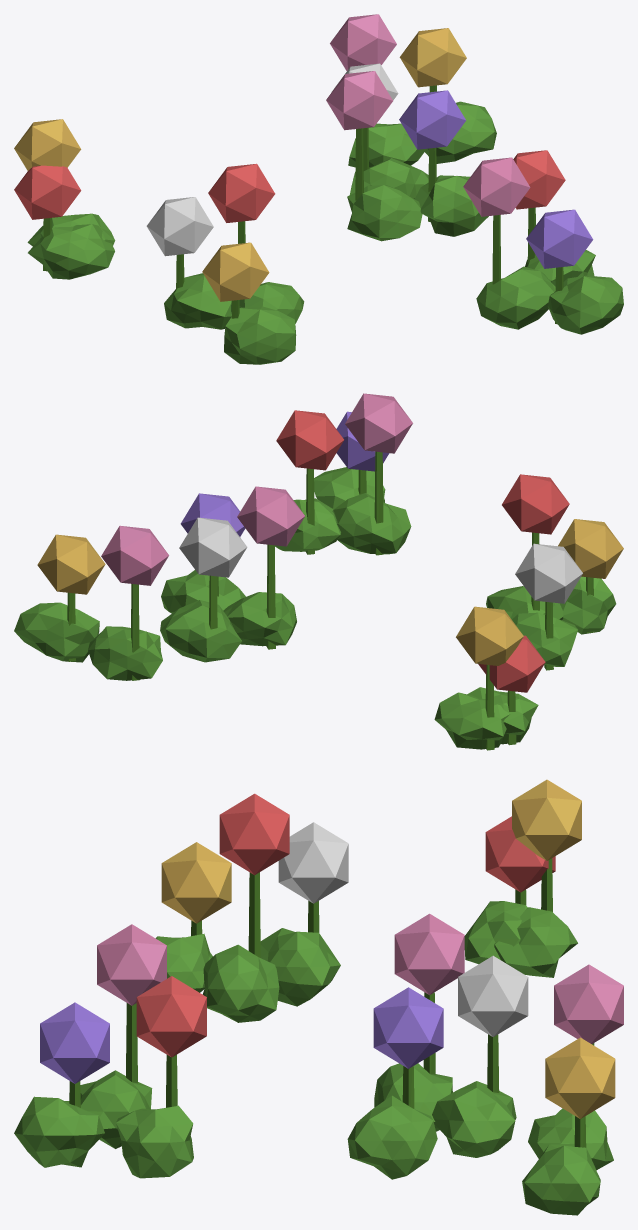
File: fleurs.glb
3 renders of one model, top to bottom at view 1: azimuth 30°, elevation 25°; view 2: azimuth 150°, elevation 25°; view 3: azimuth 270°, elevation 25°, orthographic. The views are drawn at different scales.
Size of the model in its own units: 1.48 by 0.5 by 1.32.
